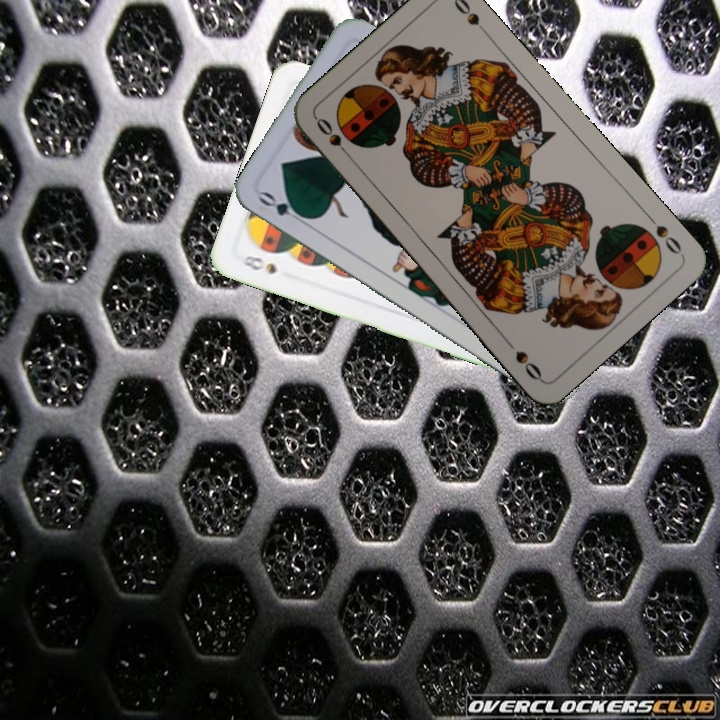GO: (254, 187, 312, 227)
S8: (235, 251, 280, 277)
SO: (312, 113, 355, 162), (642, 209, 685, 258)
